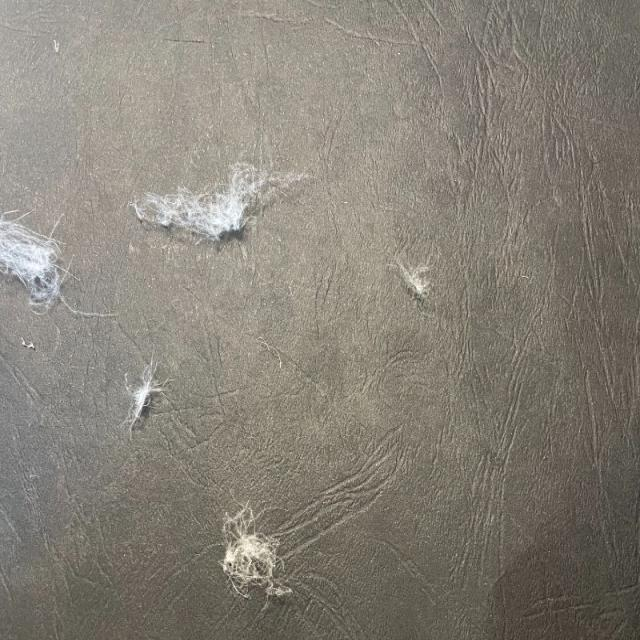feather: (127, 162, 297, 238), (0, 215, 71, 314), (223, 494, 284, 600), (118, 360, 158, 434), (395, 260, 437, 302)
